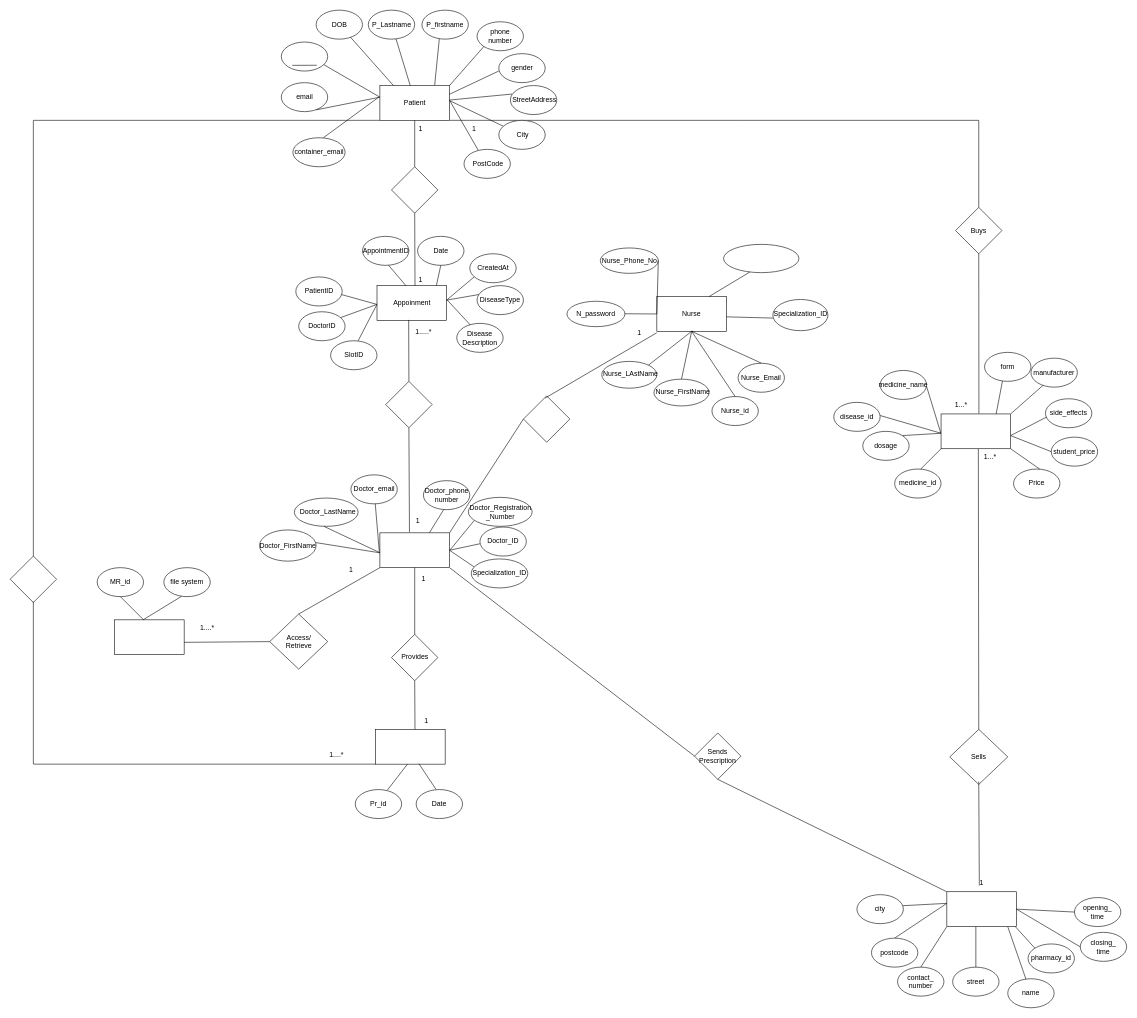
This 1137x1018 diagram has some shape labels left out. The shapes that lost their labels are listed below. From the top down, each one's box as (x1, y1, x2, y2) in pixels, then its label:
(281, 41, 328, 71): P_id
(391, 166, 438, 213): Books
(723, 244, 799, 273): Nurse_Registration _Number
(385, 381, 432, 428): Checks
(523, 395, 570, 442): Assits
(940, 413, 1011, 449): Medicine
(379, 532, 449, 568): Doctor
(10, 555, 57, 602): Views
(114, 619, 184, 655): Medical Records
(375, 729, 445, 764): Prescription
(946, 891, 1016, 927): Pharmacy
